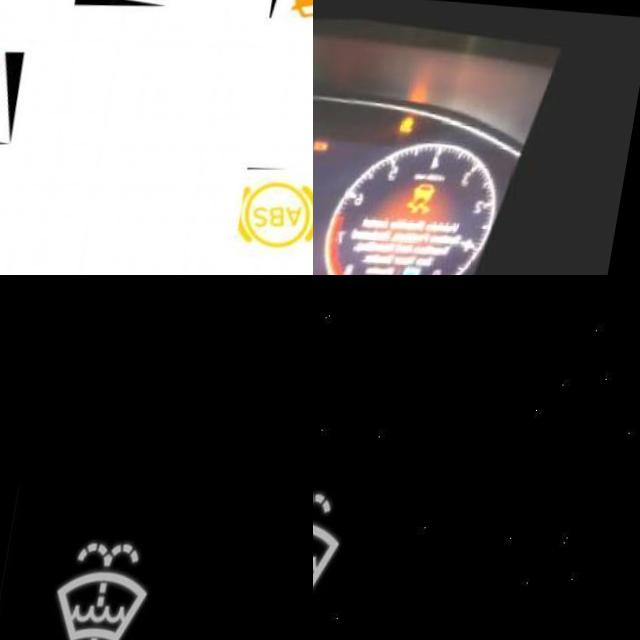Washer Fluid: (62, 540, 167, 640), (313, 490, 359, 596)
